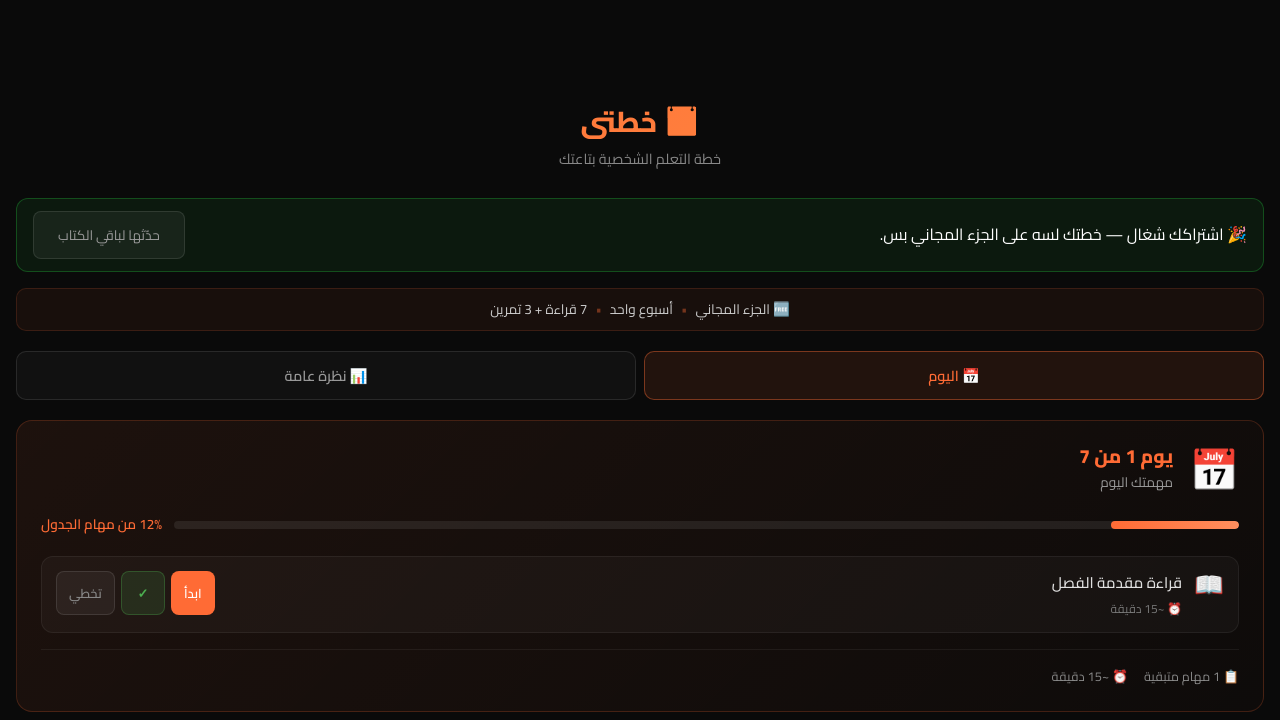
Test: MyPlanPage creates and extends plans sized by daily minutes › lets a reader with full reading access extend a free plan without changing minutes
Click the button "حدّثها لباقي الكتاب": (109, 235) 33,211 -> 185,259
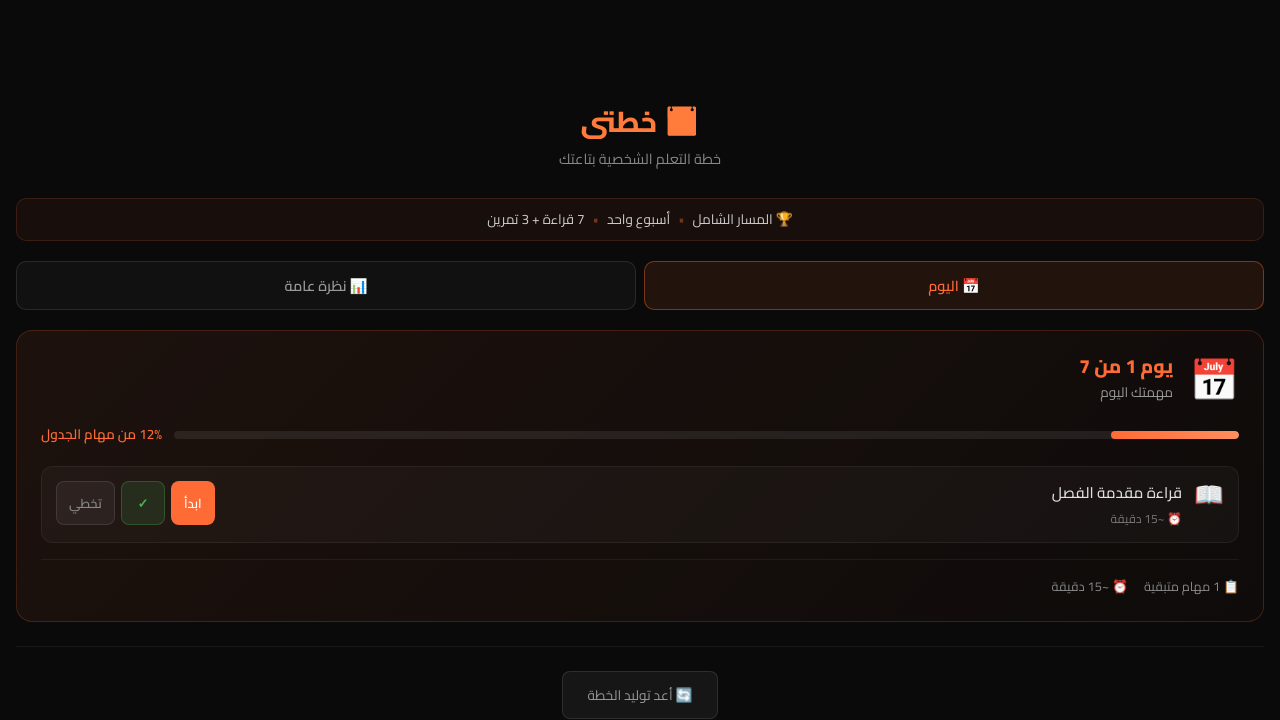
Result: the text "🏆 المسار الشامل" is shown at 693,209 -> 793,230
Result: the button "حدّثها لباقي الكتاب" is gone
